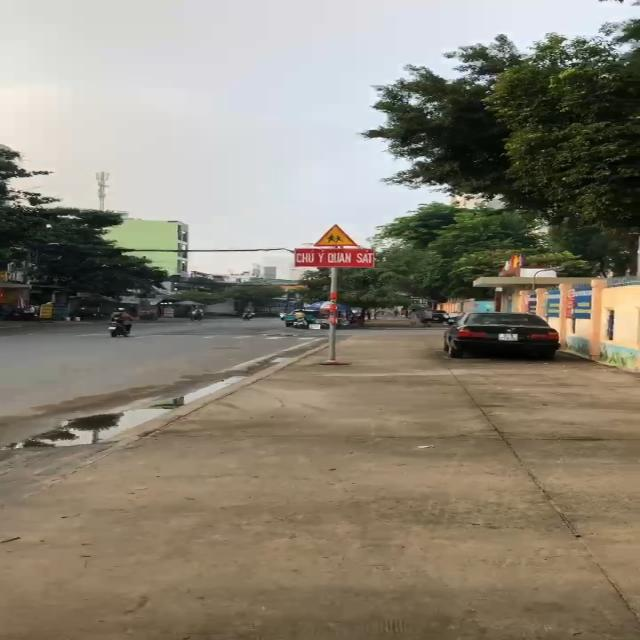Bien bao tre em: (312, 219, 360, 247)
